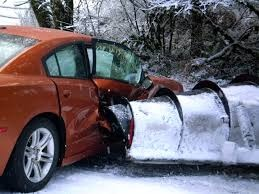Broken-glass: (89, 40, 144, 81)
Smashed: (71, 80, 178, 144)
